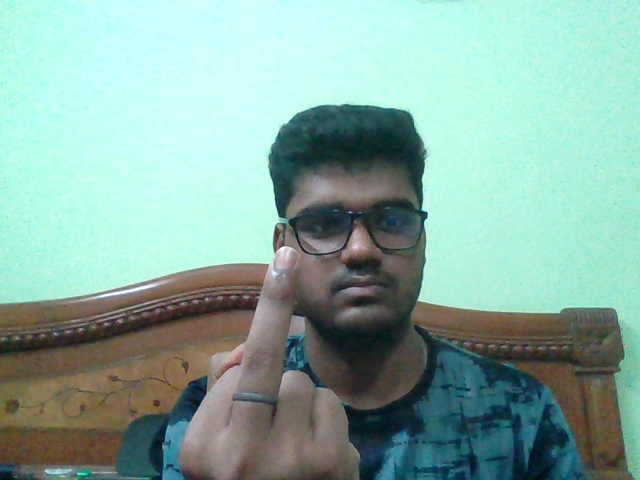FuckYou: (177, 246, 361, 478)
